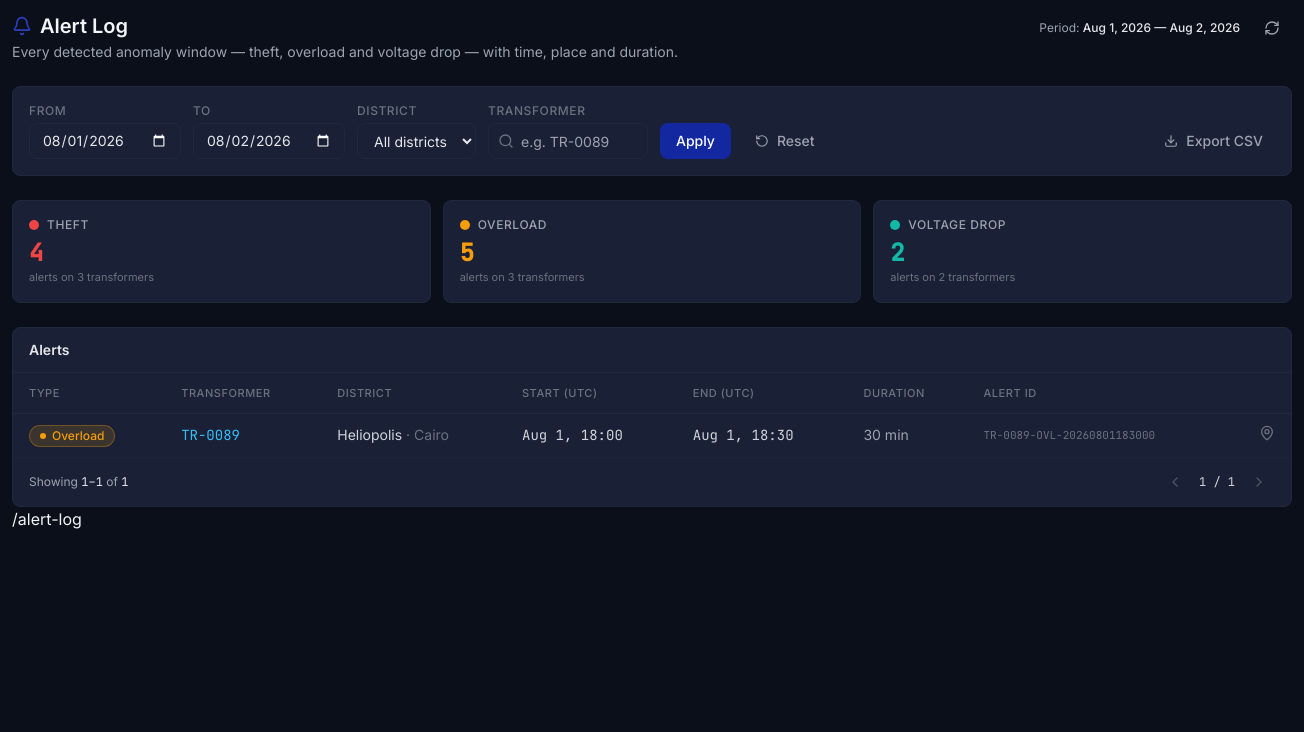
it: AlertLogPage › filters by type when a summary card is clicked
Step 1. Click the button "Voltage Drop 2 alerts on 2 transformers" → click(957, 224), box x1=873 y1=200 x2=1292 y2=302
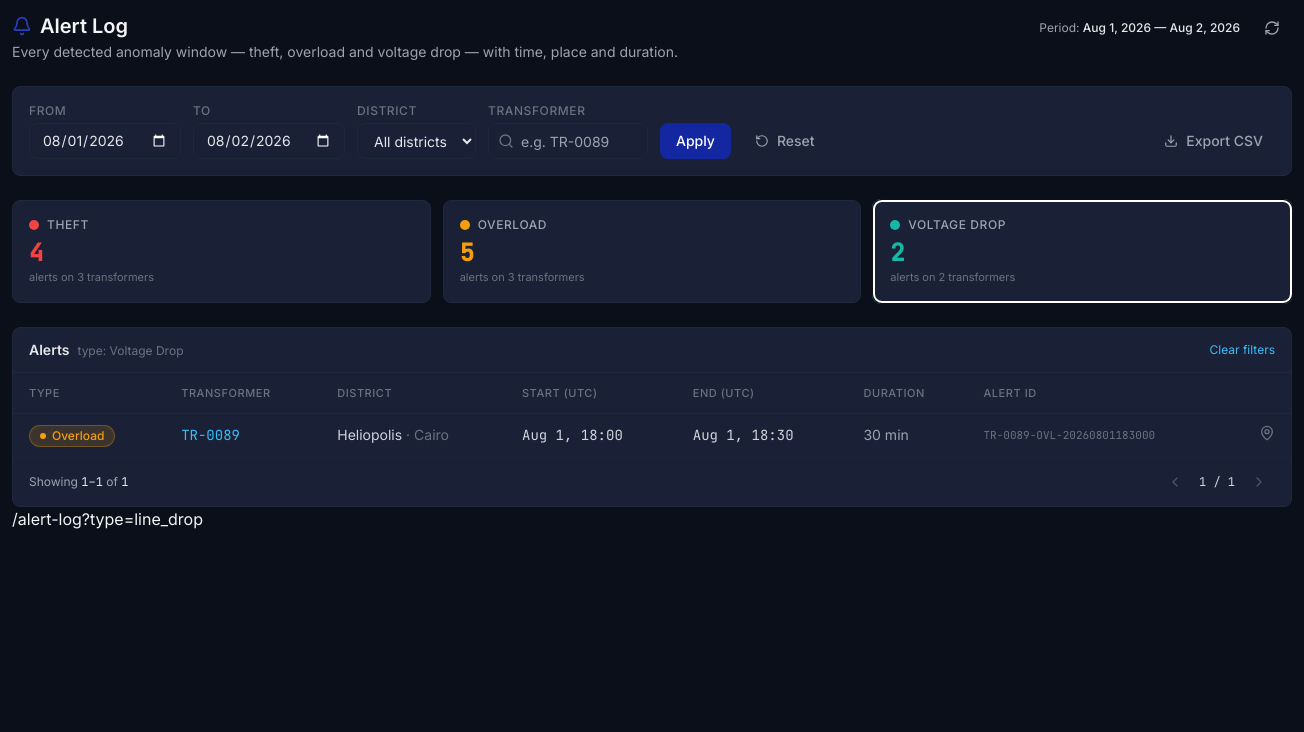
Now the text with test id "location" shows "type=line_drop", box x1=12 y1=508 x2=203 y2=528
